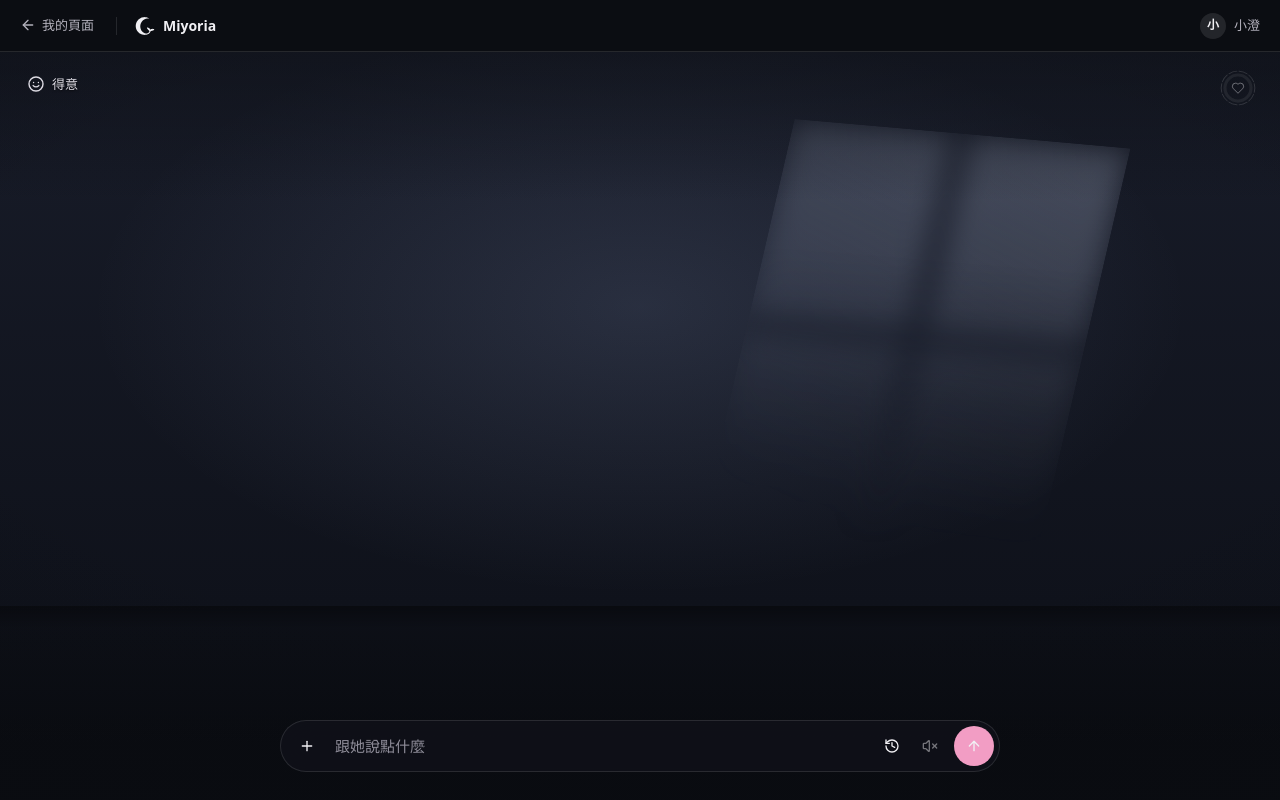
Scenario: her room › says moderation's fixed line when she will not take it up
This screenshot has width=1280, height=800.
Type "……" into the text box named "跟她說的話" at (600, 746), box [327,734,872,758]
Then press Enter
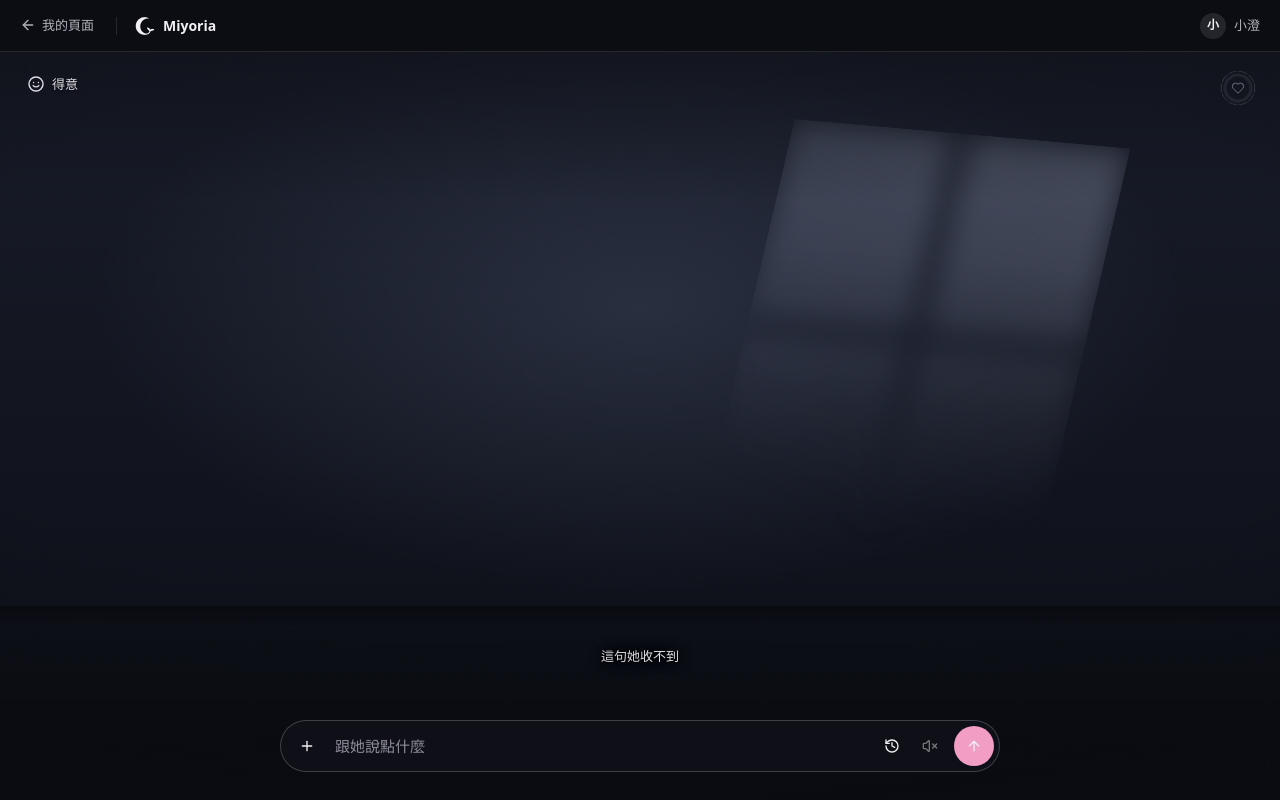
Check: the text "這句她收不到" is shown, box [601,647,679,665]
